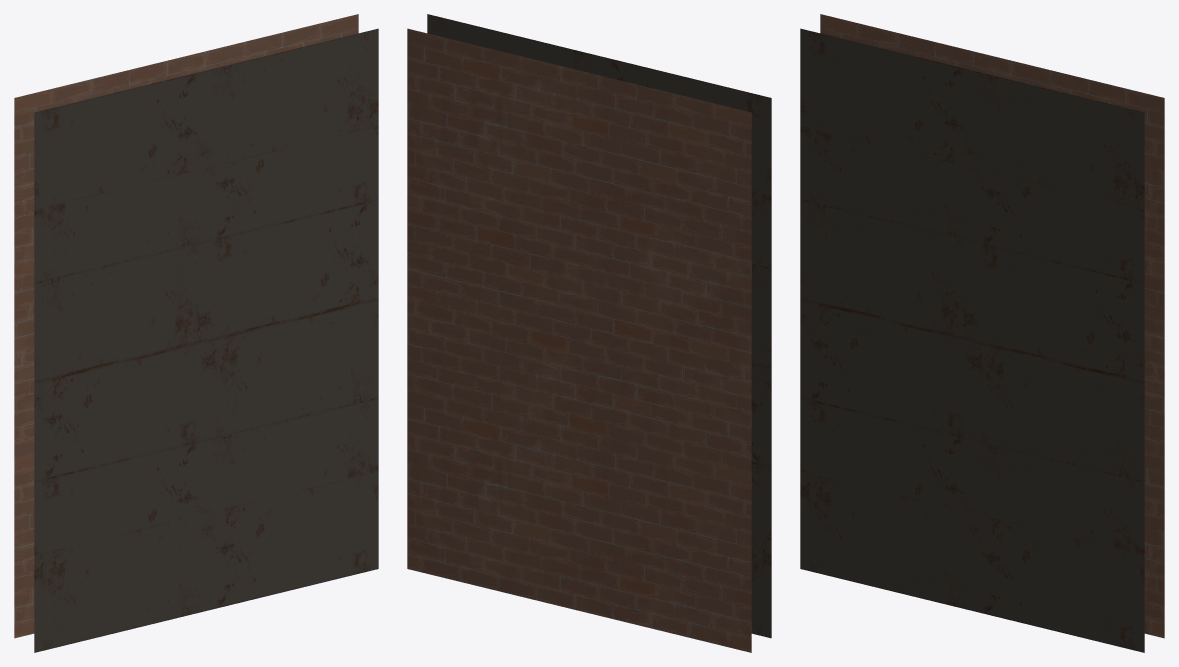
Rendered from Metal_Plain_3.gltf.
3 renders of one model, left to right at view 1: azimuth 30°, elevation 25°; view 2: azimuth 150°, elevation 25°; view 3: azimuth 330°, elevation 25°, orthographic.
Parts seen in each view (by area): view 1: Metal_Plain_3; view 2: Metal_Plain_3; view 3: Metal_Plain_3.
Part boxes in pixels (left/top/right/bottom): Metal_Plain_3: left=14, top=14, right=378, bottom=652; Metal_Plain_3: left=407, top=14, right=771, bottom=652; Metal_Plain_3: left=800, top=14, right=1164, bottom=652.
Bounding box in the file's own units: 2 × 3 × 0.2.
Materials: 2 (2 with a texture image).
